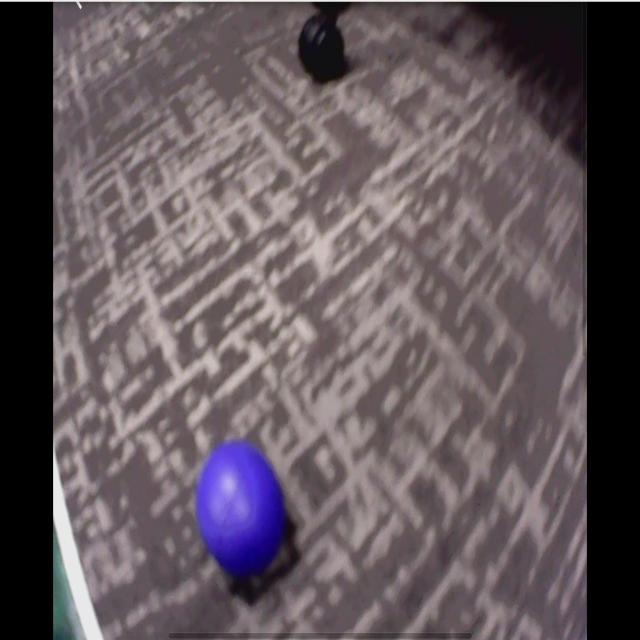ball: (197, 439, 288, 578)
